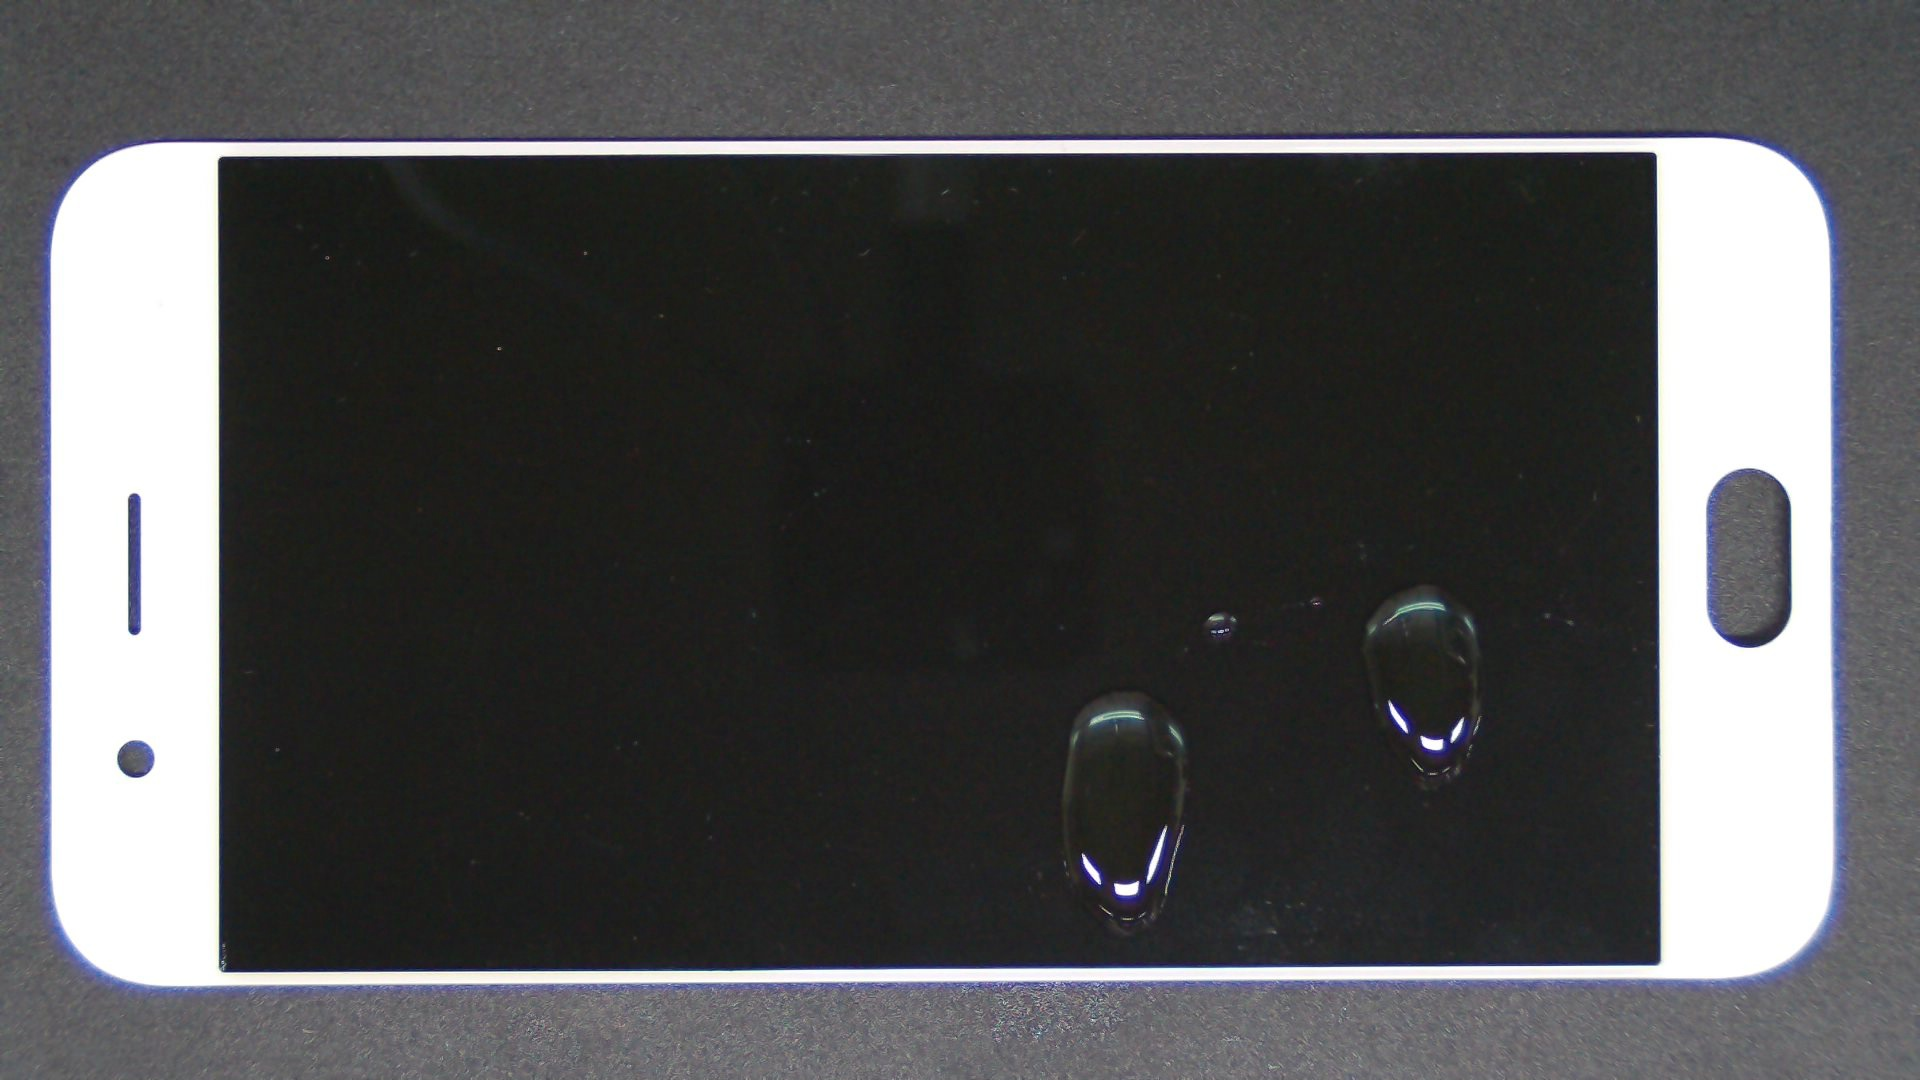oil: (558, 345, 1671, 1039), (658, 298, 1920, 897), (612, 306, 1833, 919), (711, 293, 1920, 880)
